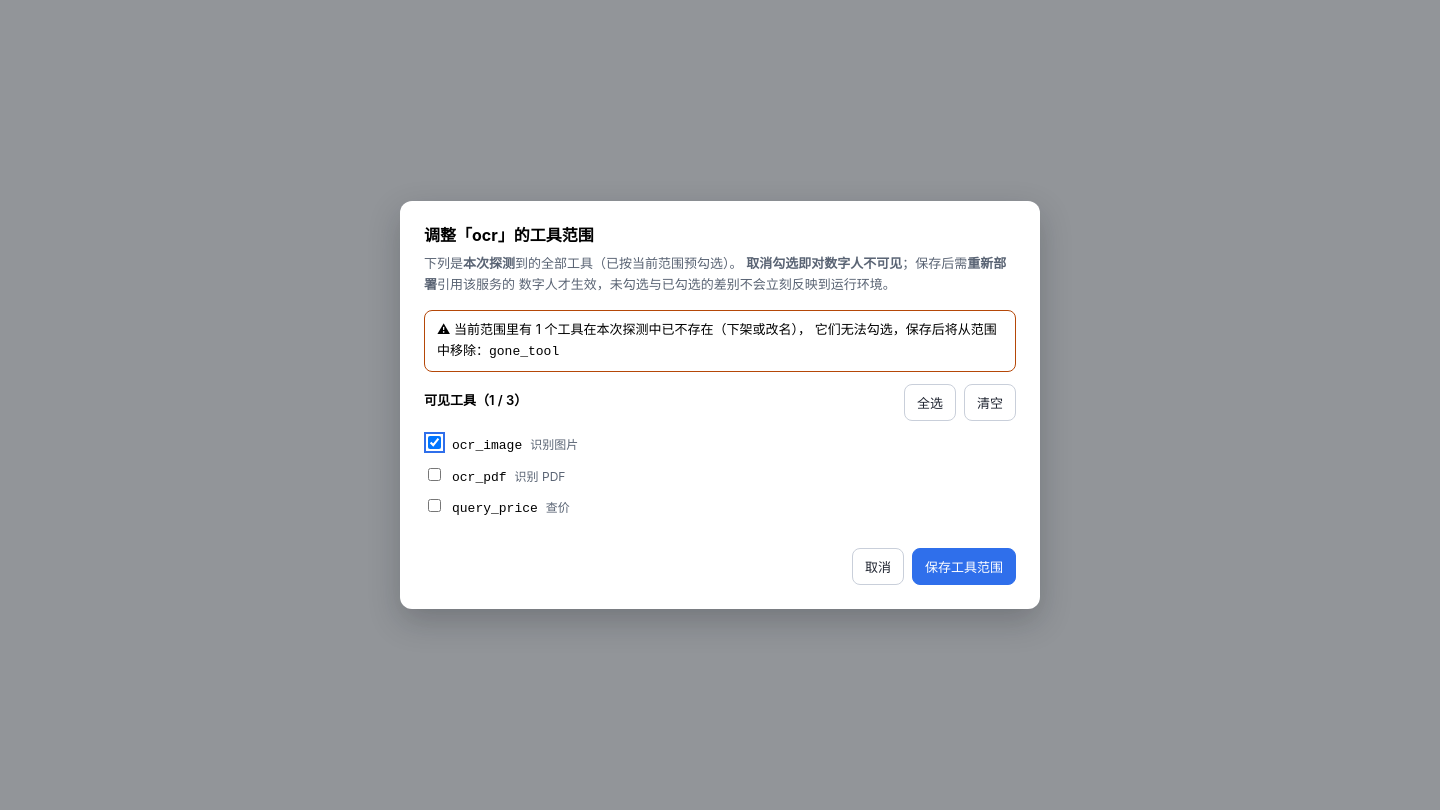
Test case: McpToolScopeDialog —— 保存 › 保存失败（如并发冲突）→ 不关窗、勾选不丢，错误可读
Step 1. Click the checkbox with test id "tool" showing "ocr_pdf 识别 PDF" → click(434, 474), box x1=428 y1=468 x2=441 y2=481
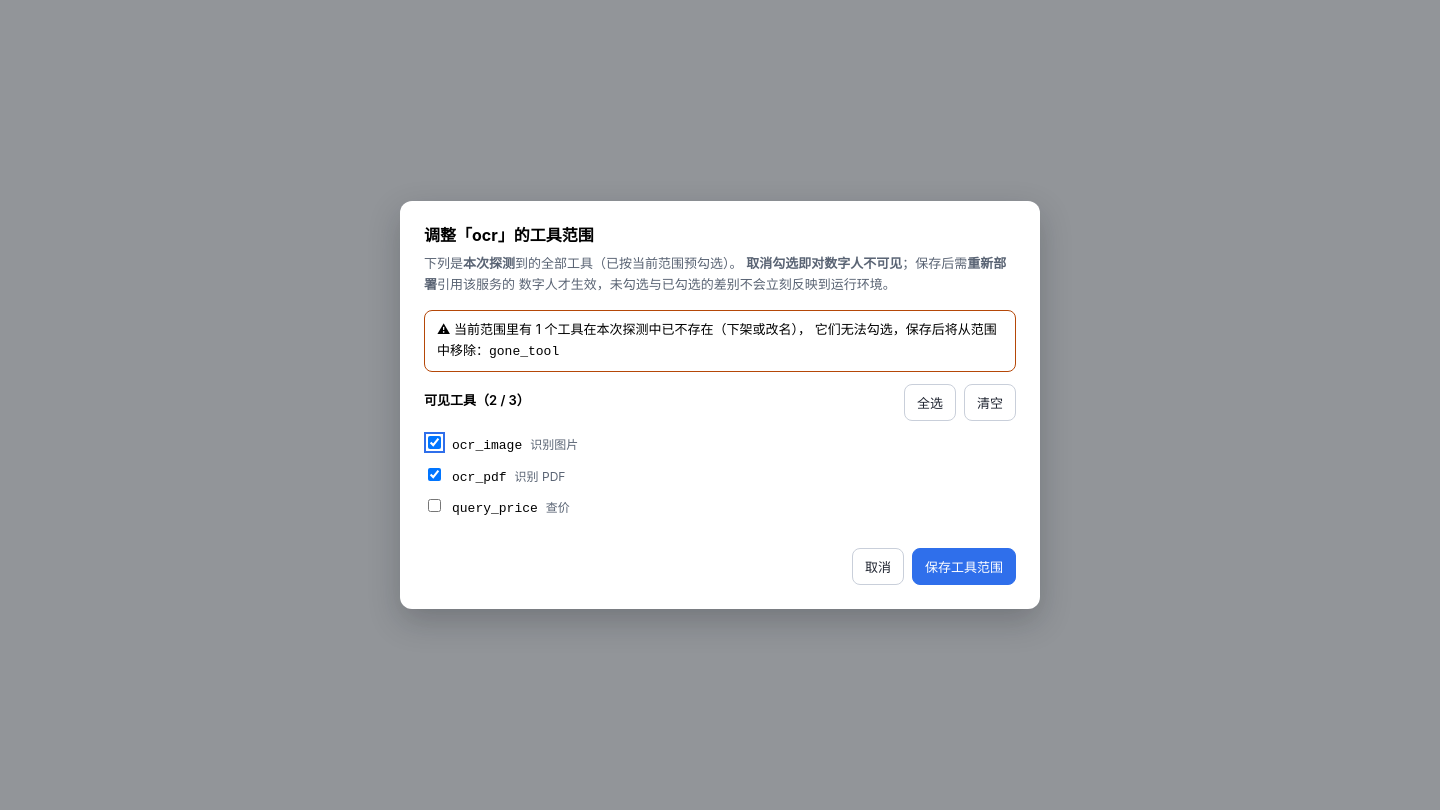
Step 2. Click the button with test id "save" → click(964, 567), box x1=912 y1=548 x2=1016 y2=585
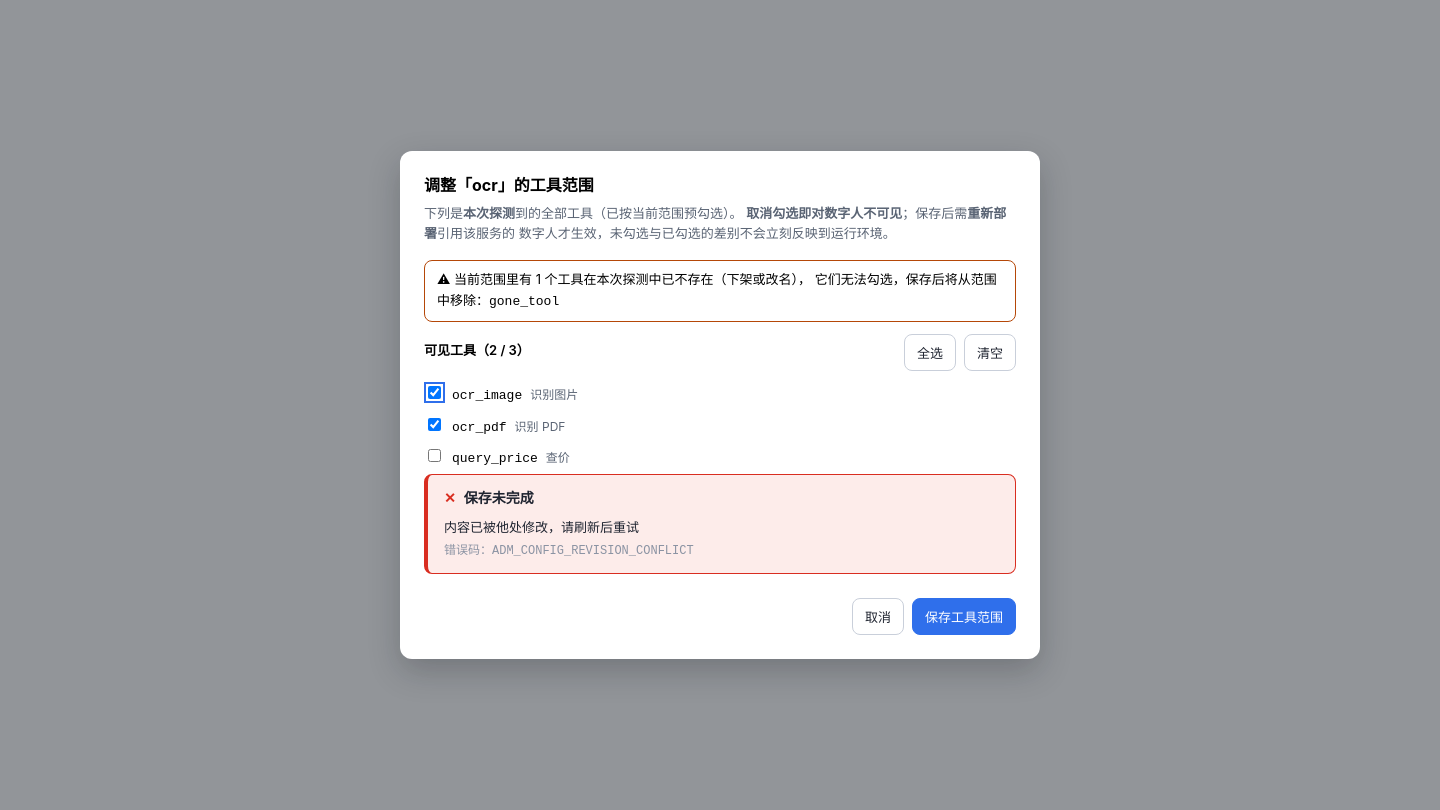
Result: the text "内容已被他处修改" is shown at x1=444 y1=520 x2=639 y2=536
